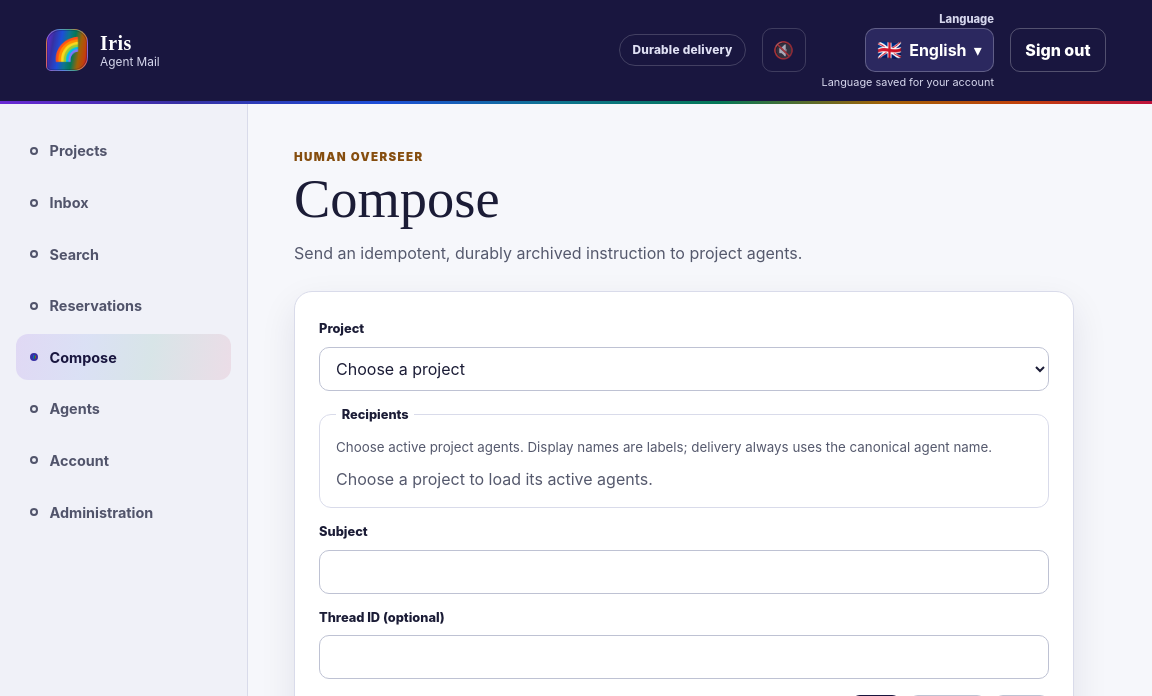
Test: Iris landing shell › ignores a stale project-agent directory resolve after switching projects
Expected: the text "Language saved for your account" is shown, left=822, top=75, right=994, bottom=89
Select "/mateusz-klatt/mcp_agent_mail" in the dropdown labelled "Project": (684,369) left=319, top=347, right=1049, bottom=391
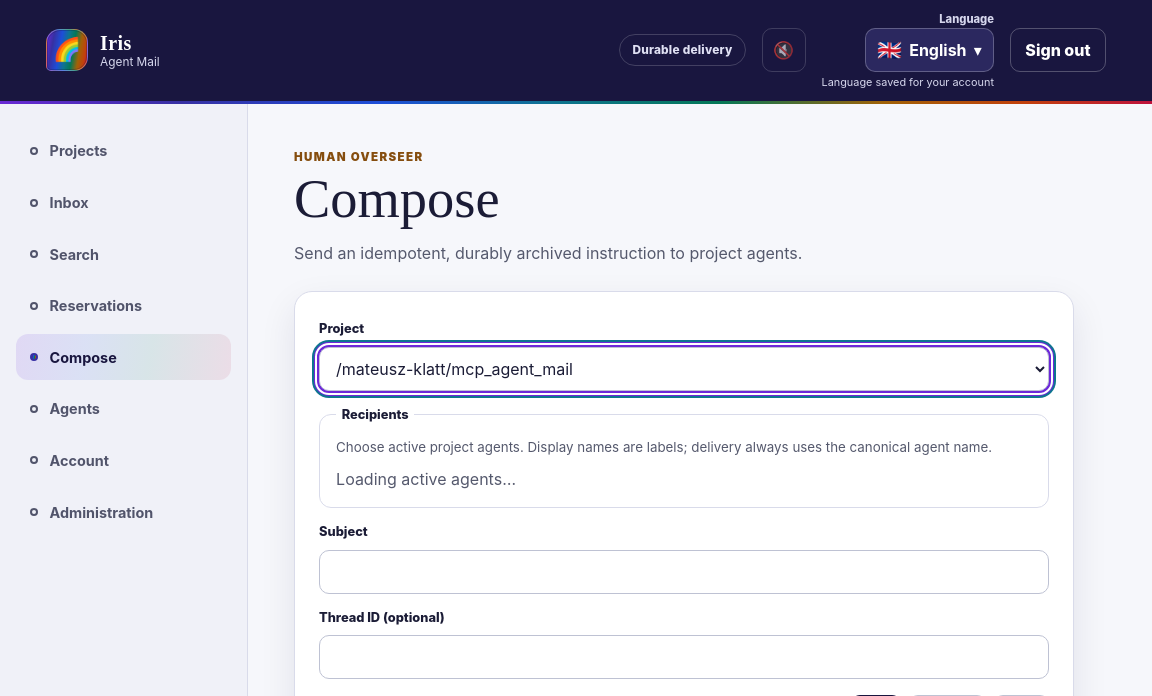
Select "/mateusz-klatt/archive_lab" in the dropdown labelled "Project": (684,369) left=319, top=347, right=1049, bottom=391
(page scrolled)
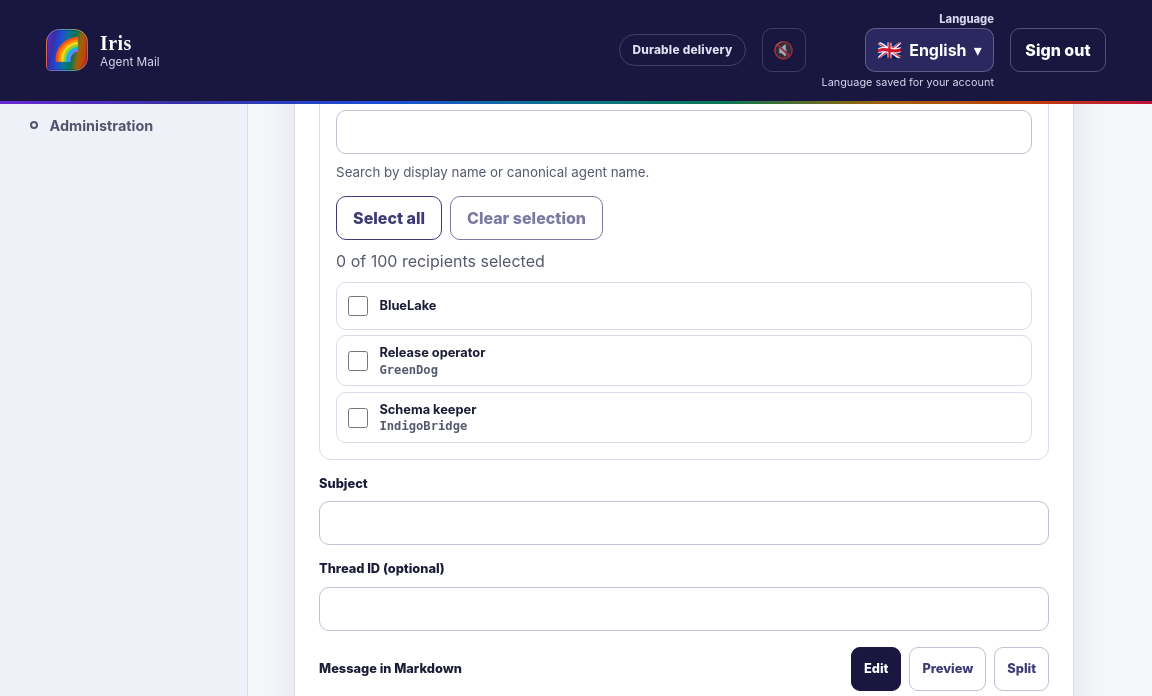
Result: the checkbox showing "GreenDog" is shown at left=348, top=351, right=368, bottom=371
